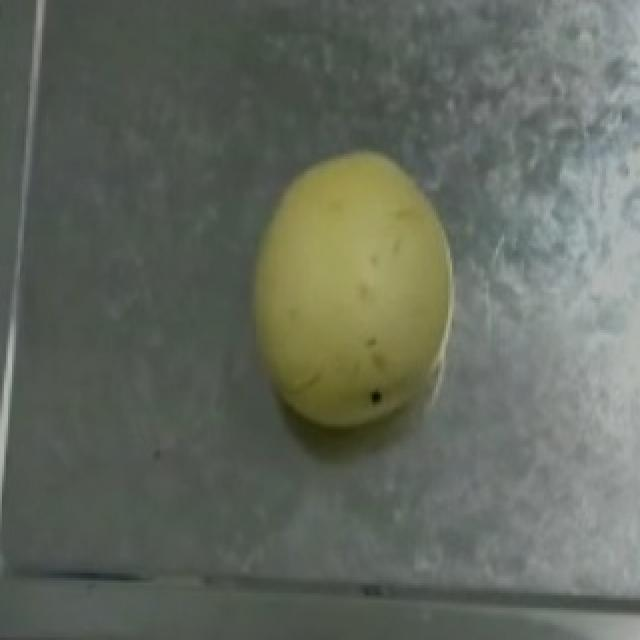Fruit: (232, 124, 484, 442)
